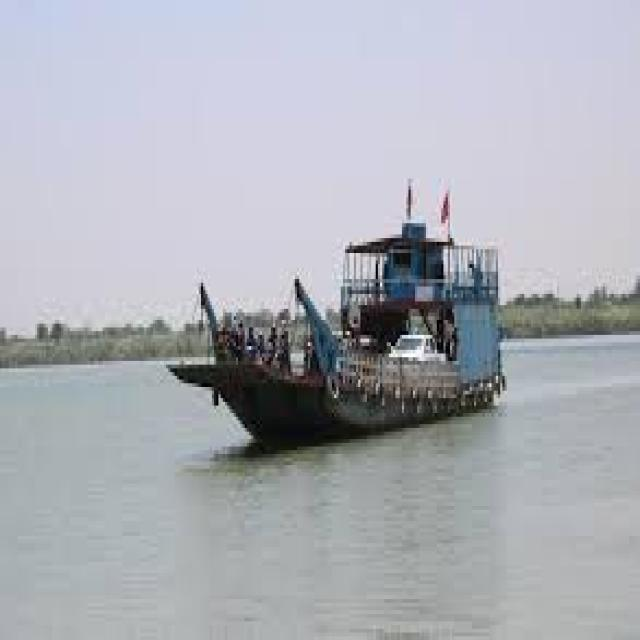cargoship: (191, 172, 522, 444)
